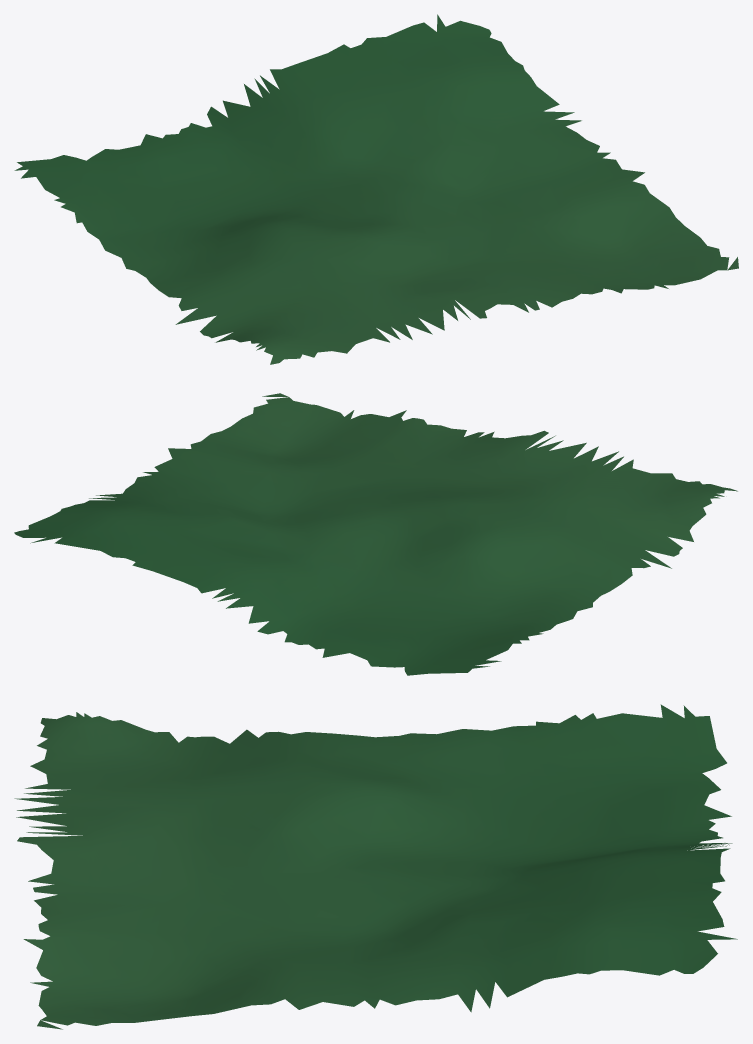
The model's file is payo_land_x3_y6_lod1.glb.
3 views of the same model, one above another, from view 1: azimuth 30°, elevation 25°; view 2: azimuth 150°, elevation 25°; view 3: azimuth 270°, elevation 25° (orthographic). The views are drawn at different scales.
Visible parts, largest first — view 1: payo_land_x3_y6; view 2: payo_land_x3_y6; view 3: payo_land_x3_y6.
Part boxes in pixels (box(x1,y1,x2,y2)): payo_land_x3_y6: box(14, 14, 738, 364); payo_land_x3_y6: box(14, 393, 737, 675); payo_land_x3_y6: box(14, 704, 737, 1029).
Bounding box in the file's own units: 275 × 34.3 × 275.
